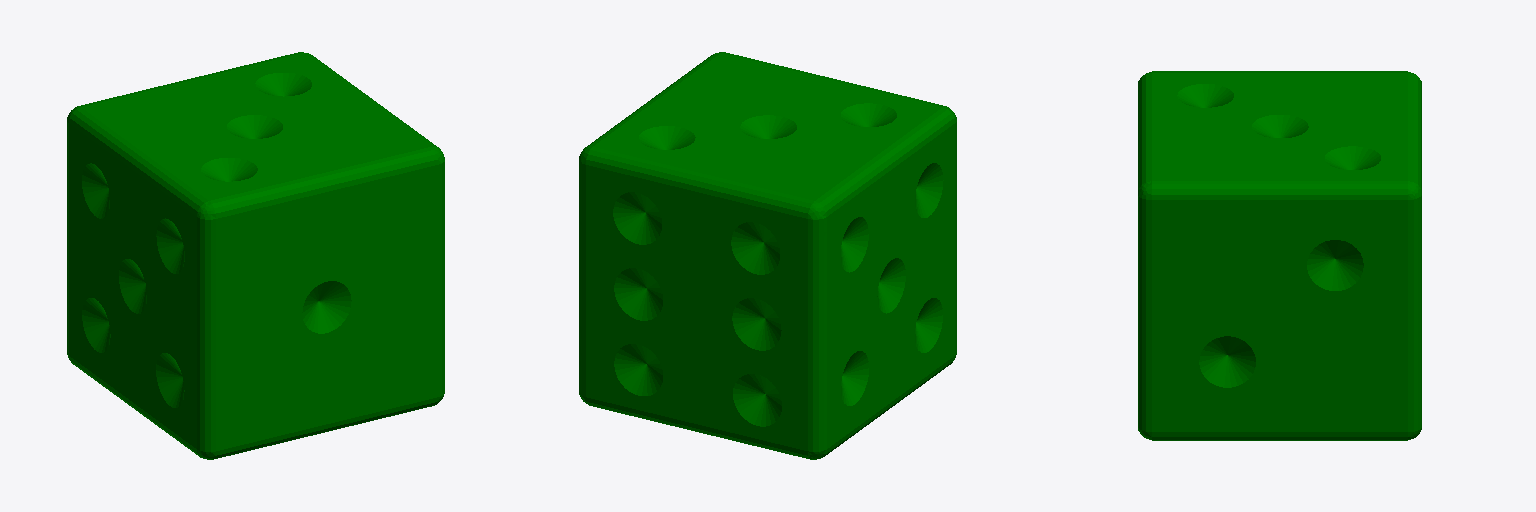
File: GreenDice.obj
3 renders of one model, left to right at view 1: azimuth 30°, elevation 25°; view 2: azimuth 150°, elevation 25°; view 3: azimuth 270°, elevation 25°, orthographic.
Visible parts, largest first — view 1: Dice__Box__Box; view 2: Dice__Box__Box; view 3: Dice__Box__Box.
Part boxes in pixels (x1,y1,x2,y2): Dice__Box__Box: (67, 52, 444, 459); Dice__Box__Box: (579, 52, 956, 459); Dice__Box__Box: (1138, 71, 1421, 440).
Bounding box in the file's own units: 10 × 10 × 10.